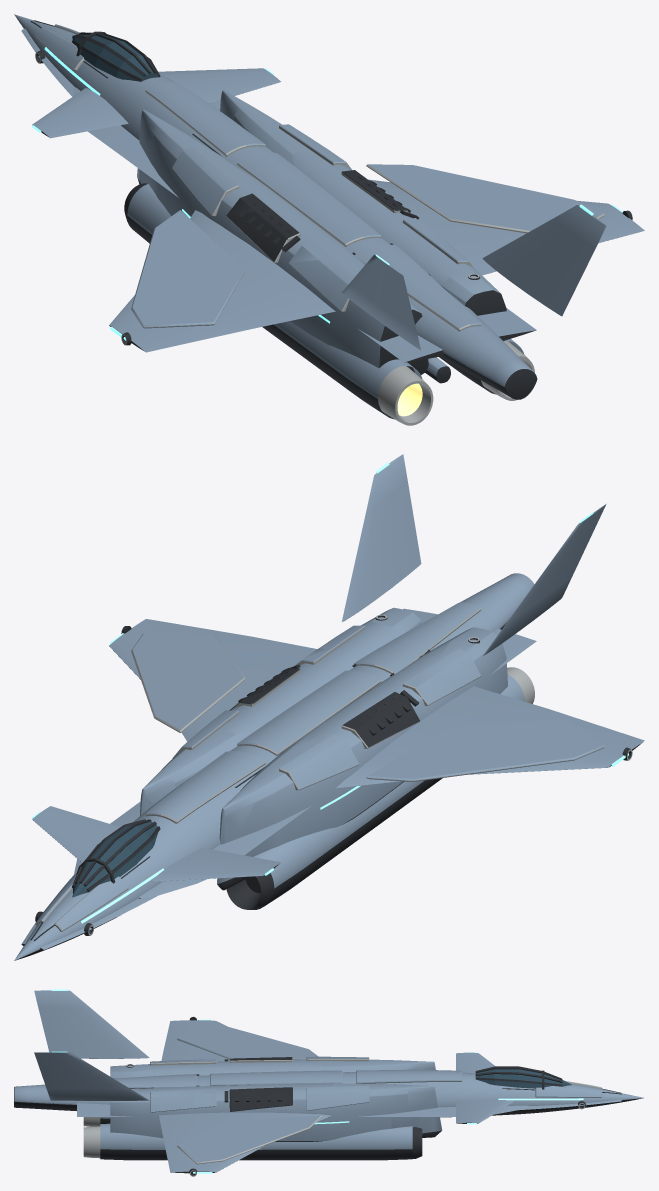
Rendered from harrier.glb.
3 views of the same model, one above another, from view 1: azimuth 30°, elevation 25°; view 2: azimuth 150°, elevation 25°; view 3: azimuth 270°, elevation 25° (orthographic). The views are drawn at different scales.
Parts seen in each view (by area): view 1: Hull_Harrier; view 2: Hull_Harrier; view 3: Hull_Harrier.
Part boxes in pixels (x1=…): Hull_Harrier: x1=14, y1=14, x2=644, y2=425; Hull_Harrier: x1=14, y1=454, x2=644, y2=960; Hull_Harrier: x1=14, y1=989, x2=643, y2=1176.
Bounding box in the file's own units: 54.66 × 20.48 × 95.
